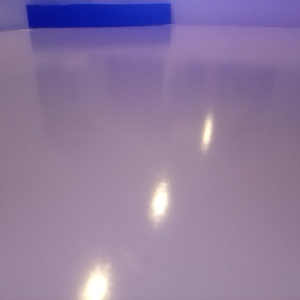zone: (27, 4, 172, 28)
